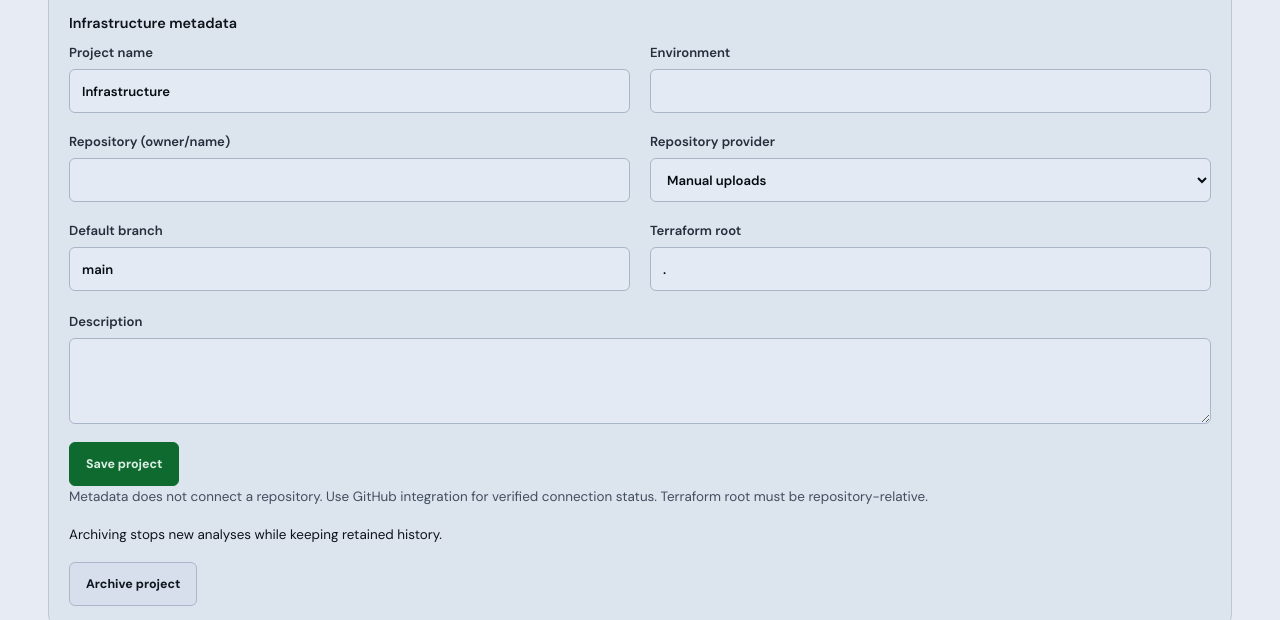
project lifecycle › keeps save feedback after reloading changed metadata and scopes it to the saved project
(page scrolled)
Type "Saved context" into the text box labelled "Description".
click(640, 381); type("Saved context")  # box left=69, top=338, right=1211, bottom=424
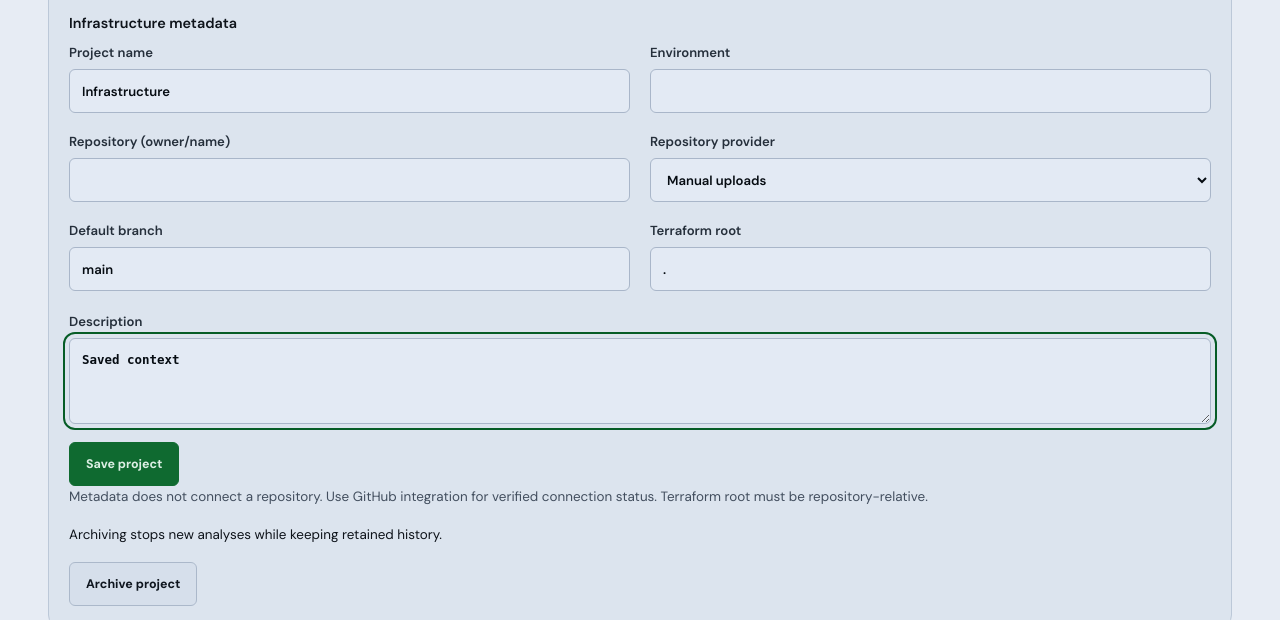
Click the button "Save project".
click(124, 464)  # box left=69, top=442, right=179, bottom=486
(page scrolled)
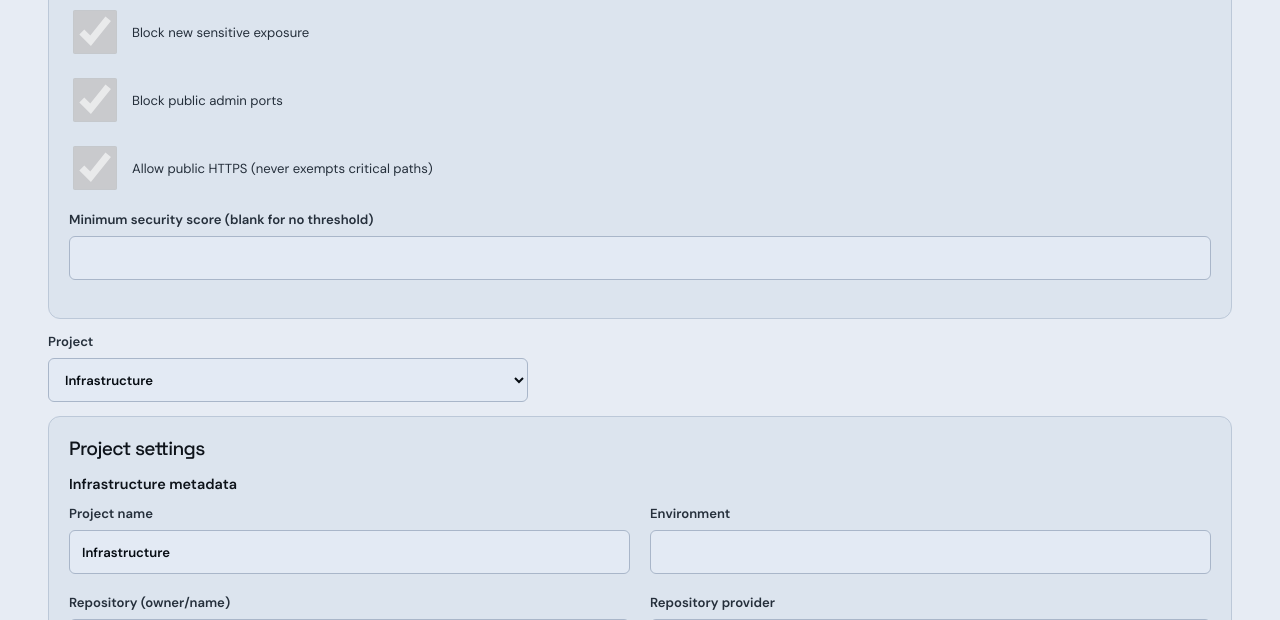
Select "Other project" in the dropdown labelled "Project" at (288, 380), box left=48, top=358, right=528, bottom=402
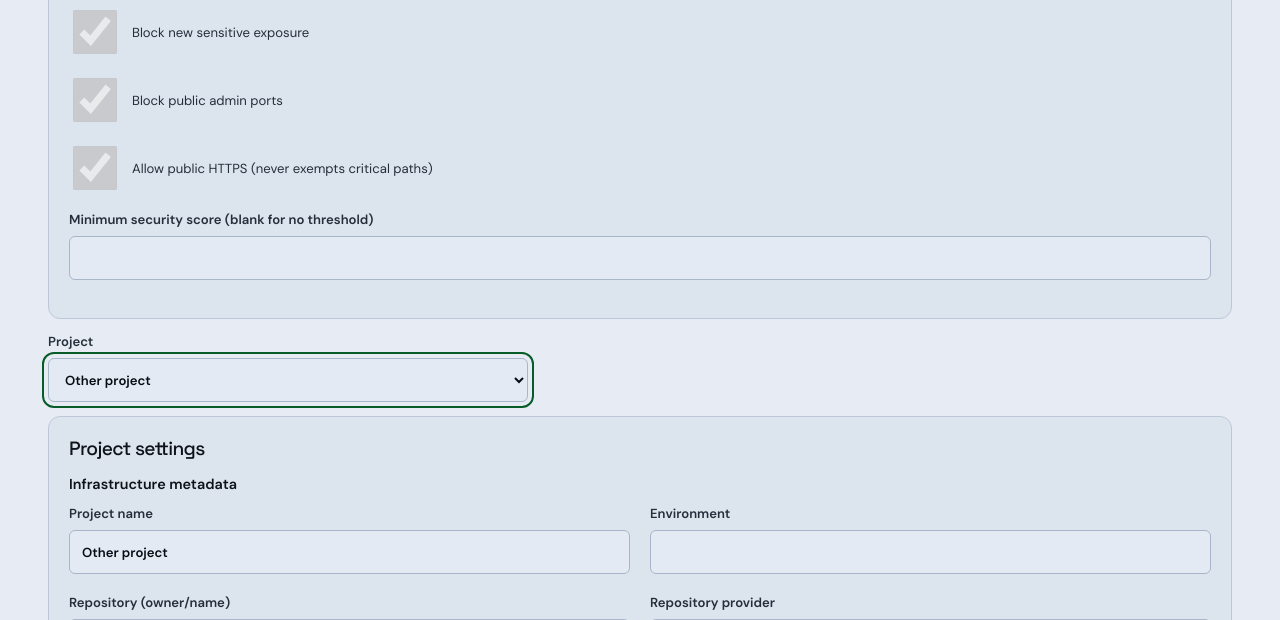
Check: the field labelled "Project name" holds "Other project", box left=69, top=530, right=630, bottom=574
